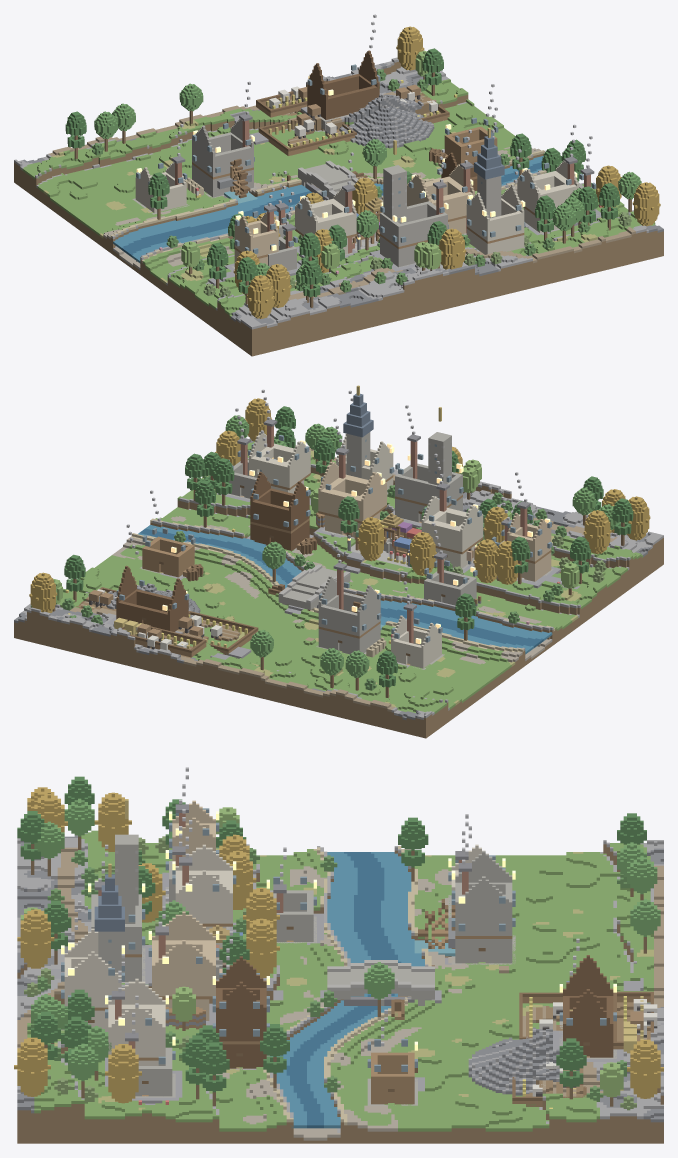
Rendered from VoxelVillage.glb.
The picture shows the model from 3 angles, top to bottom: view 1: azimuth 30°, elevation 25°; view 2: azimuth 150°, elevation 25°; view 3: azimuth 270°, elevation 25°; orthographic projection. The views are drawn at different scales.
Parts seen in each view (by area): view 1: HB_Terrain, HB_Buildings, HB_Vegetation, HB_Water, HB_Fences, HB_Animals, HB_Bridge, HB_Props, HB_Smoke, HB_MillWheel; view 2: HB_Terrain, HB_Buildings, HB_Vegetation, HB_Water, HB_Props, HB_Fences, HB_Animals, HB_Bridge, HB_Smoke; view 3: HB_Terrain, HB_Buildings, HB_Vegetation, HB_Water, HB_Bridge, HB_Fences, HB_Props, HB_Smoke, HB_Animals, HB_MillWheel.
Boxes of the visible parts, bbox=[...] form: HB_Terrain: bbox=[14, 57, 663, 356]; HB_Buildings: bbox=[132, 50, 598, 271]; HB_Vegetation: bbox=[65, 26, 660, 318]; HB_Water: bbox=[113, 156, 543, 263]; HB_Fences: bbox=[256, 91, 449, 155]; HB_Animals: bbox=[195, 84, 438, 197]; HB_Bridge: bbox=[298, 160, 358, 200]; HB_Props: bbox=[185, 148, 447, 250]; HB_Smoke: bbox=[177, 14, 592, 224]; HB_MillWheel: bbox=[217, 158, 251, 198]; HB_Terrain: bbox=[14, 438, 663, 738]; HB_Buildings: bbox=[116, 385, 553, 669]; HB_Vegetation: bbox=[29, 398, 650, 697]; HB_Water: bbox=[138, 525, 552, 654]; HB_Props: bbox=[114, 512, 481, 657]; HB_Fences: bbox=[76, 587, 258, 657]; HB_Animals: bbox=[88, 532, 407, 650]; HB_Bridge: bbox=[278, 564, 350, 610]; HB_Smoke: bbox=[126, 389, 527, 604]; HB_Terrain: bbox=[17, 830, 663, 1143]; HB_Buildings: bbox=[61, 799, 616, 1105]; HB_Vegetation: bbox=[14, 776, 663, 1110]; HB_Water: bbox=[270, 852, 455, 1128]; HB_Bridge: bbox=[327, 960, 434, 1005]; HB_Fences: bbox=[512, 991, 653, 1106]; HB_Props: bbox=[165, 925, 636, 1072]; HB_Smoke: bbox=[71, 767, 579, 1046]; HB_Animals: bbox=[209, 999, 657, 1096]; HB_MillWheel: bbox=[418, 899, 455, 957].
Size of the model in its own units: 96 by 31.5 by 96.5.
